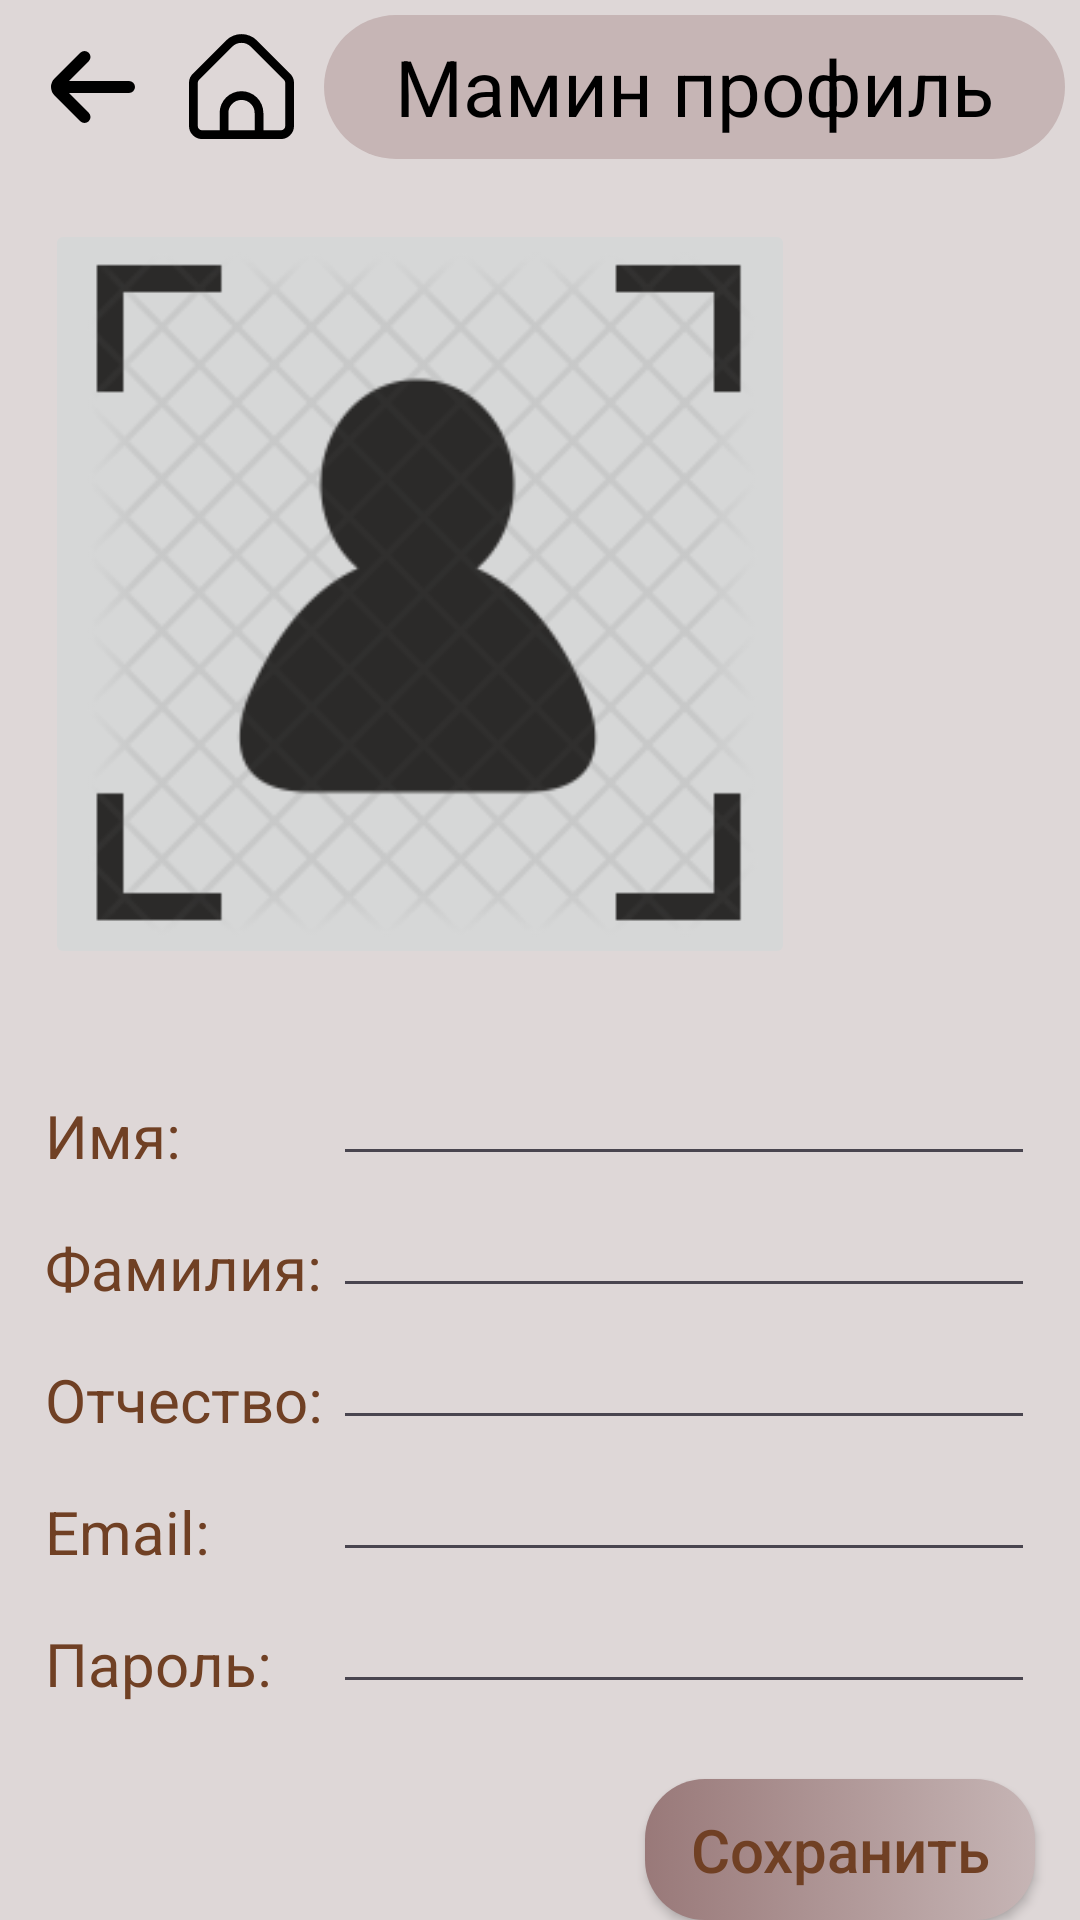

Where to tap for icons on this 1080w x 1920h app screen, as point (x, y):
back: point (93, 87)
back to main screen: point (241, 86)
